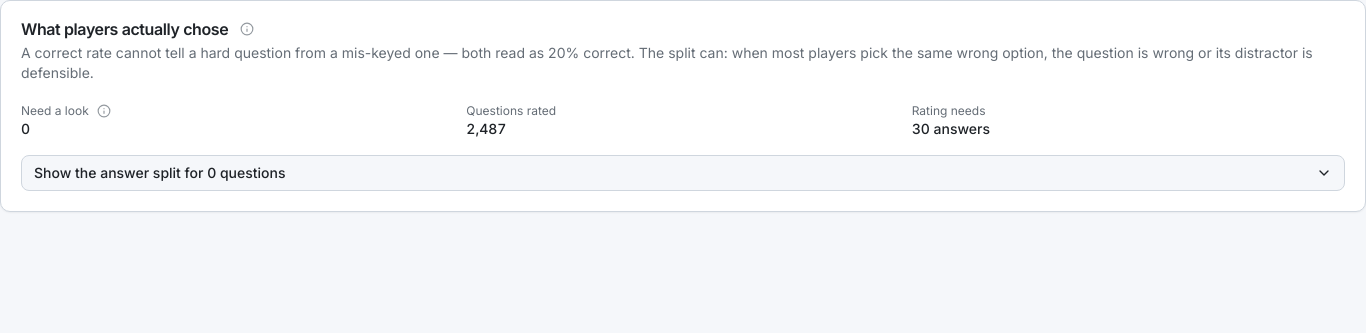
Test: questionQuality › says nothing was rated rather than showing an empty list
Click the button "Show the answer split for 0 questions" at (160, 172), box [21,155,1345,191]
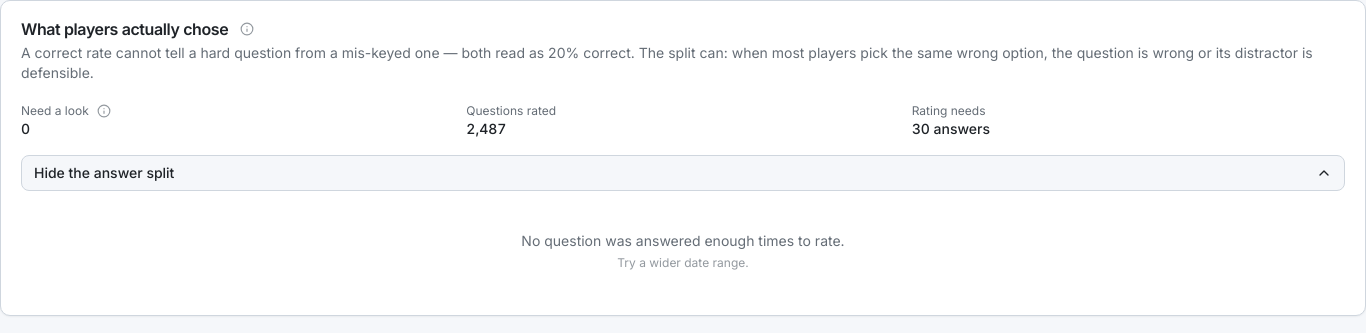
Check: the text "No question was answered enough times to rate." is shown, box [521,232,845,249]
